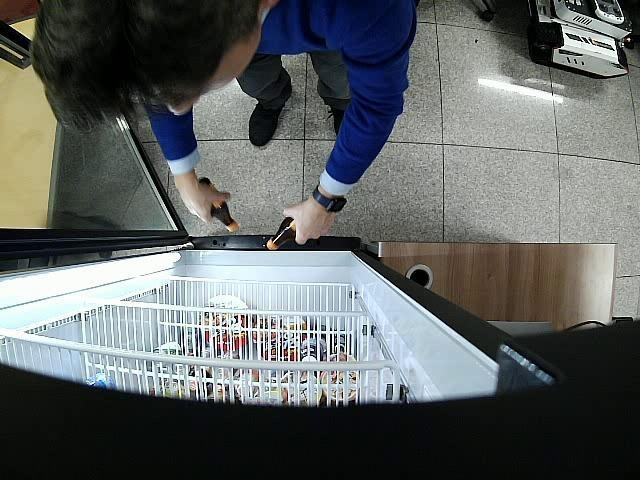17_vita500: (198, 176, 239, 232), (267, 218, 296, 250)
